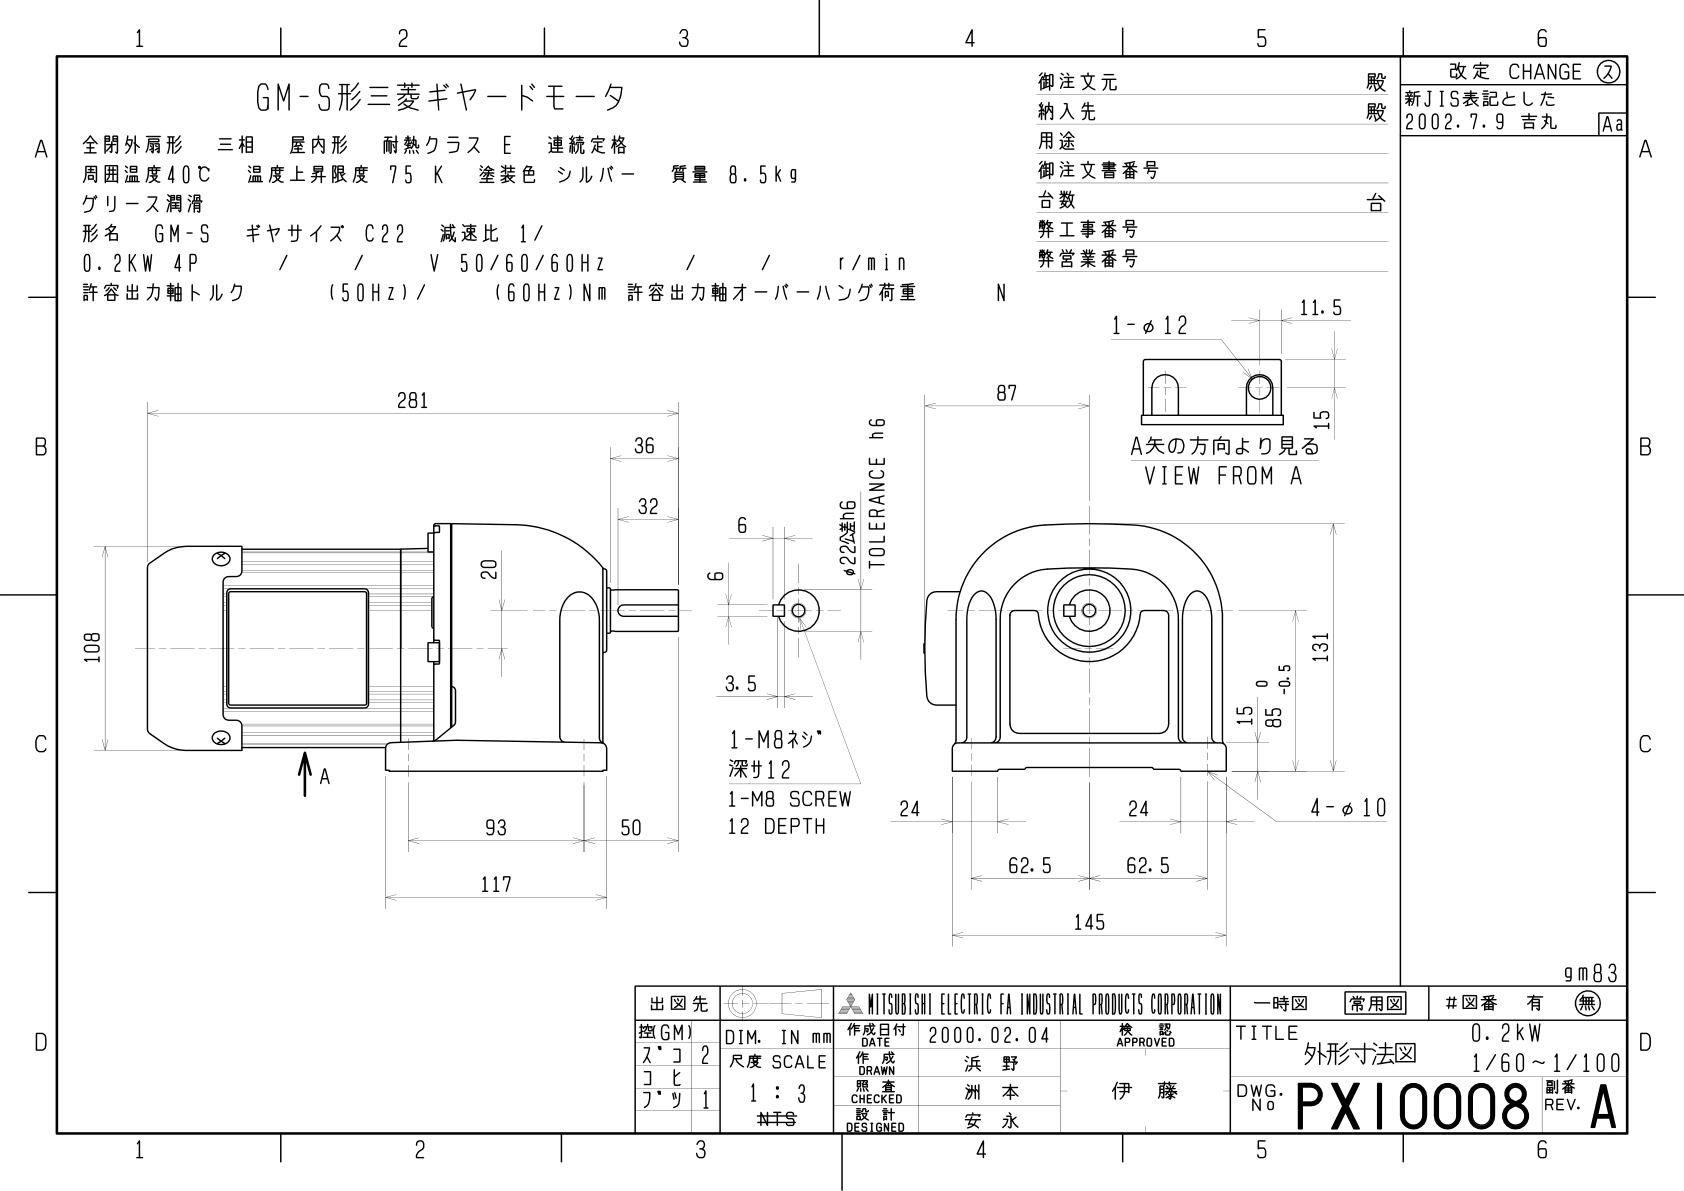GM_S_屋内＿三相_脚: (77, 298, 1389, 959)
